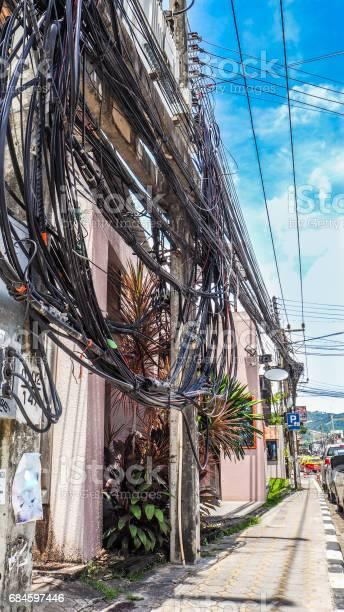wires-only: (4, 0, 219, 388)
